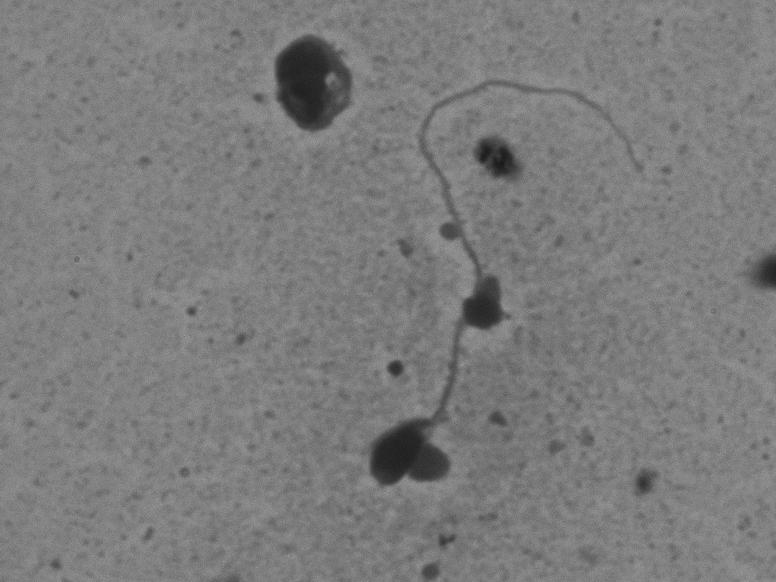Abnormal: (342, 51, 688, 522)
